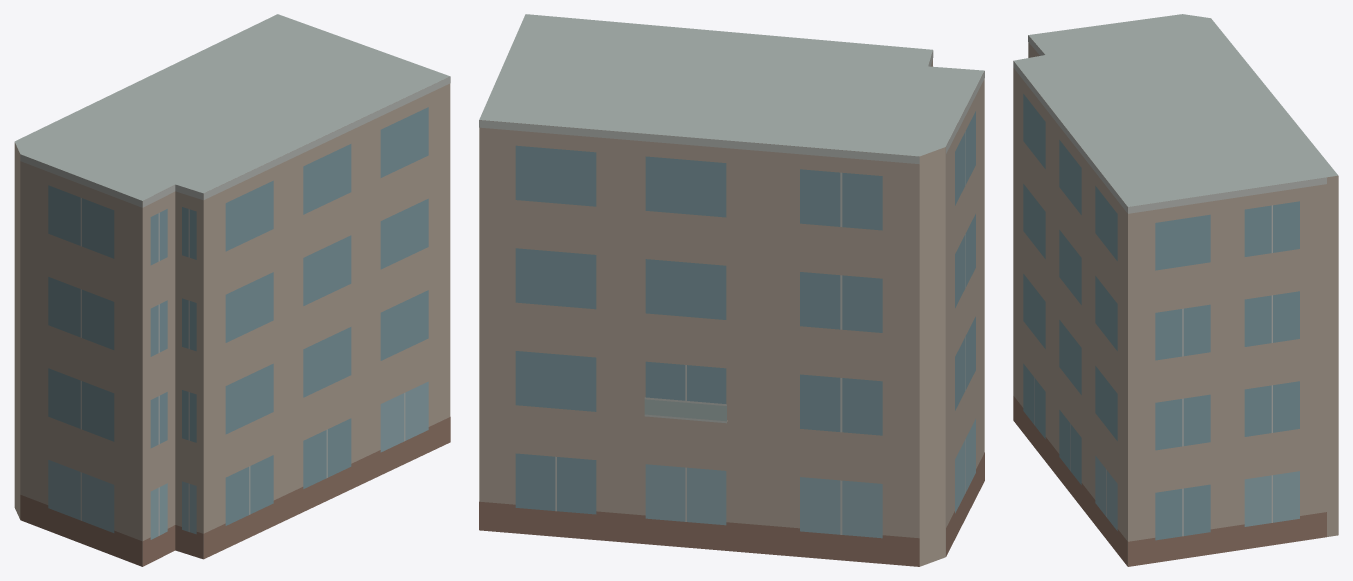
The model's file is survey-upis-32979680.glb.
The picture shows the model from 3 angles, left to right: view 1: azimuth 30°, elevation 25°; view 2: azimuth 150°, elevation 25°; view 3: azimuth 270°, elevation 25°; orthographic projection. The views are drawn at different scales.
Visible parts, largest first — view 1: survey-upis-32979680.tmp; view 2: survey-upis-32979680.tmp; view 3: survey-upis-32979680.tmp.
Boxes of the visible parts, bbox=[...] form: survey-upis-32979680.tmp: bbox=[14, 14, 450, 566]; survey-upis-32979680.tmp: bbox=[479, 14, 984, 566]; survey-upis-32979680.tmp: bbox=[1013, 14, 1338, 566].
Size of the model in its own units: 14.91 by 12.95 by 10.61.
